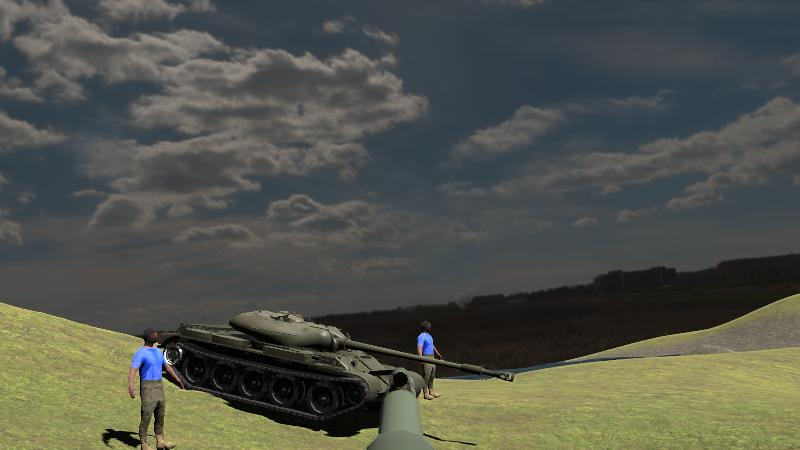Human: (129, 328, 184, 450), (419, 320, 443, 401), (419, 320, 442, 403)
Tank: (156, 310, 511, 430)
